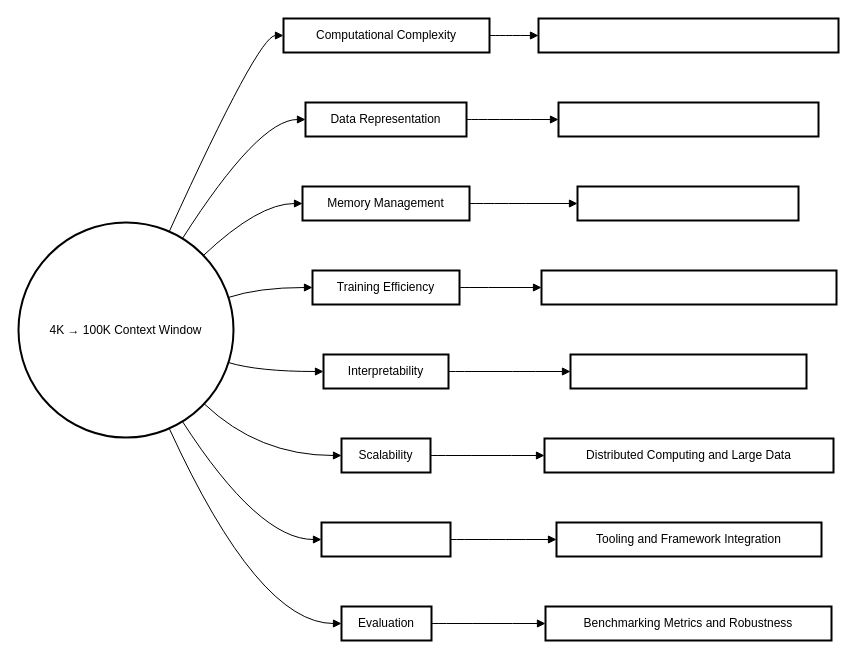
This 856x658 diagram has some shape labels left out. Here are the shapes that lost their labels. From the top down, the box of each, then its label:
(537, 17, 839, 53): Algorithmic Efficiency and Performance
(557, 101, 819, 137): Feature Encoding and Embeddings
(576, 185, 799, 221): Optimizing Buffer Utilization
(540, 269, 837, 305): Epoch Time and Resource Consumption
(569, 353, 807, 389): Understanding Model Decisions
(320, 521, 451, 557): Implementation
